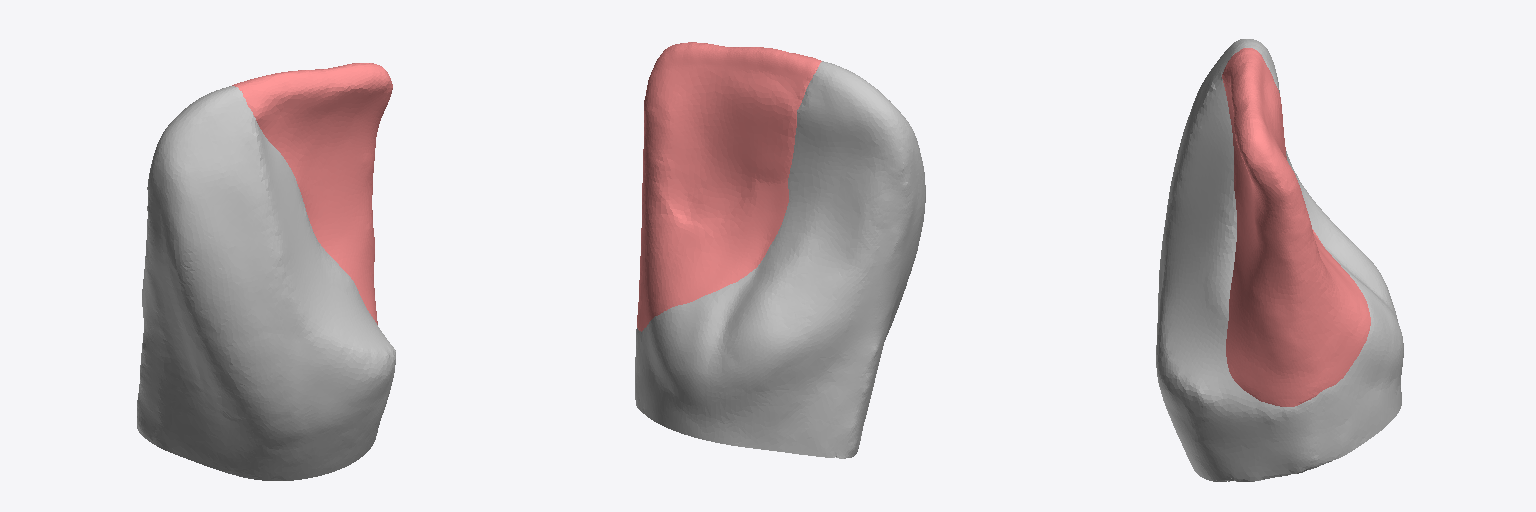
File: TPH_ST_Effects_Teeth_3d_2.obj
The picture shows the model from 3 angles: view 1: azimuth 30°, elevation 25°; view 2: azimuth 150°, elevation 25°; view 3: azimuth 270°, elevation 25°; orthographic projection.
Parts seen in each view (by area): view 1: mmGroup756, mmGroup806; view 2: mmGroup756, mmGroup806; view 3: mmGroup756, mmGroup806.
Boxes of the visible parts, box(x1,y1,x2,y2) form: mmGroup756: box(137, 86, 395, 480); mmGroup806: box(232, 63, 392, 324); mmGroup756: box(635, 61, 925, 458); mmGroup806: box(637, 42, 821, 331); mmGroup756: box(1156, 39, 1403, 481); mmGroup806: box(1222, 48, 1370, 406).
Bounding box in the file's own units: 1.09 × 1.61 × 0.9407.